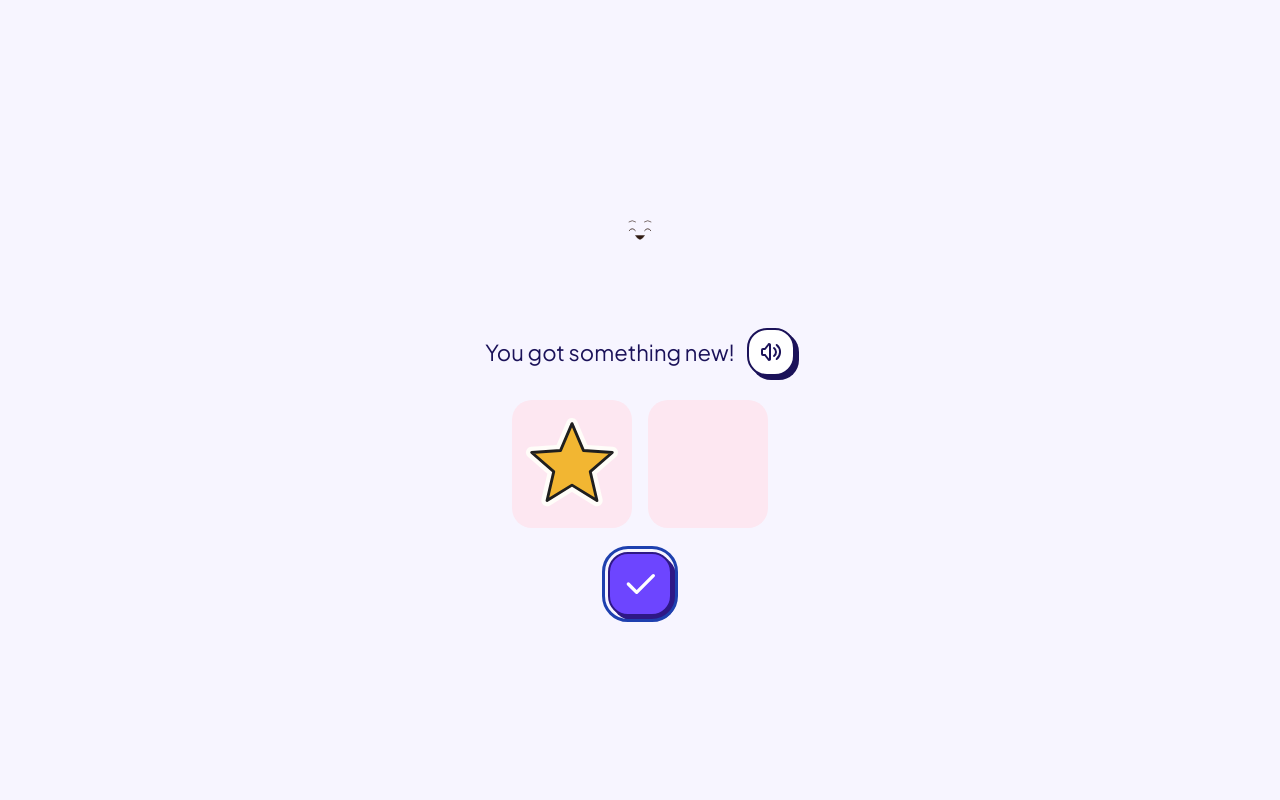
Test case: new rewards › are put away with the tick, then home says what to do
Click the button named "Done": (640, 584) x1=608 y1=552 x2=672 y2=616
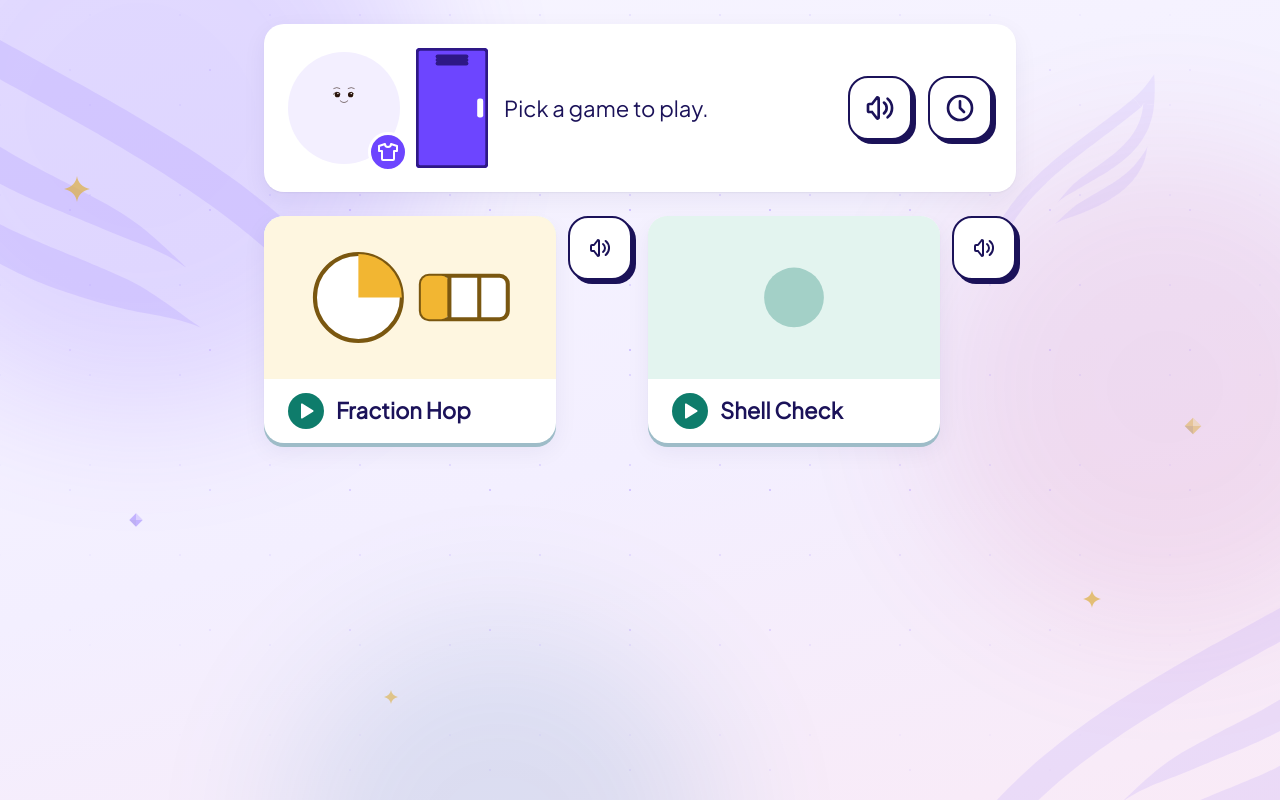
Expected: the dialog is gone
